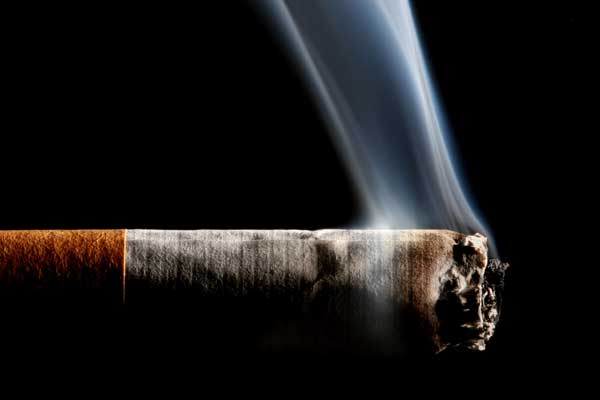cigarette: (7, 217, 518, 372)
